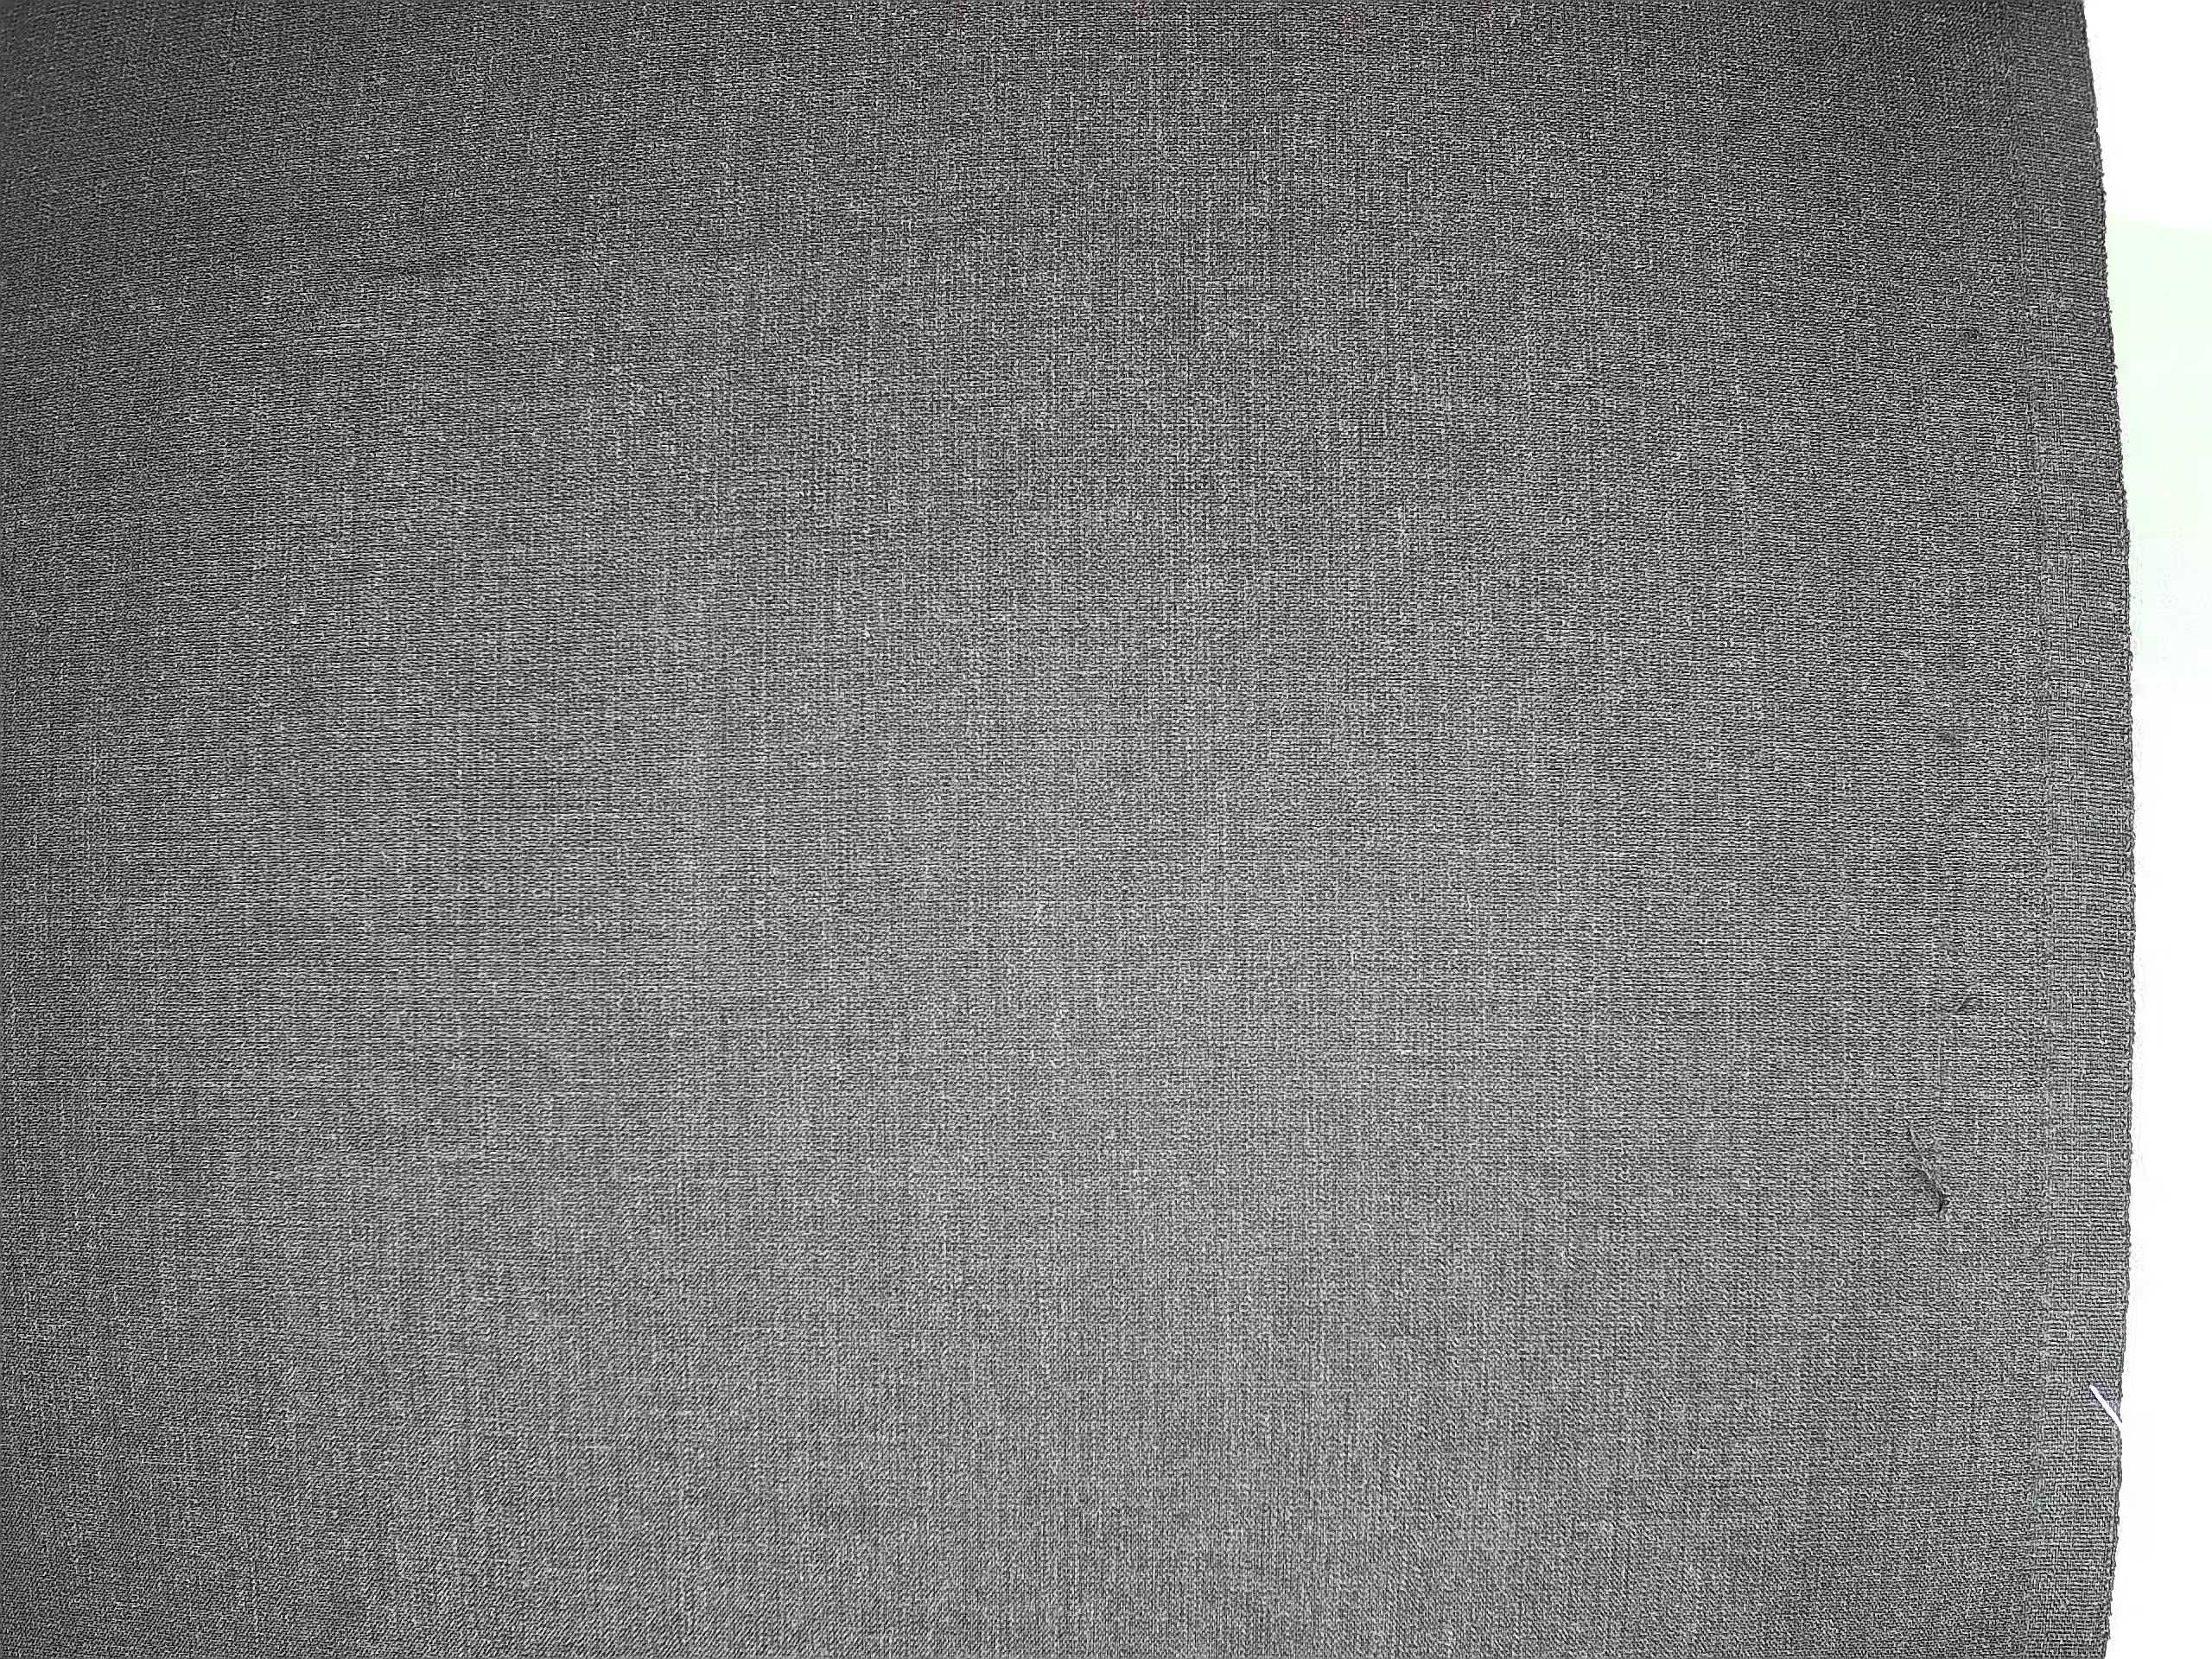others: (1898, 1122, 1966, 1236), (1937, 964, 1993, 1030), (1932, 709, 1970, 758), (1949, 315, 1994, 354)
